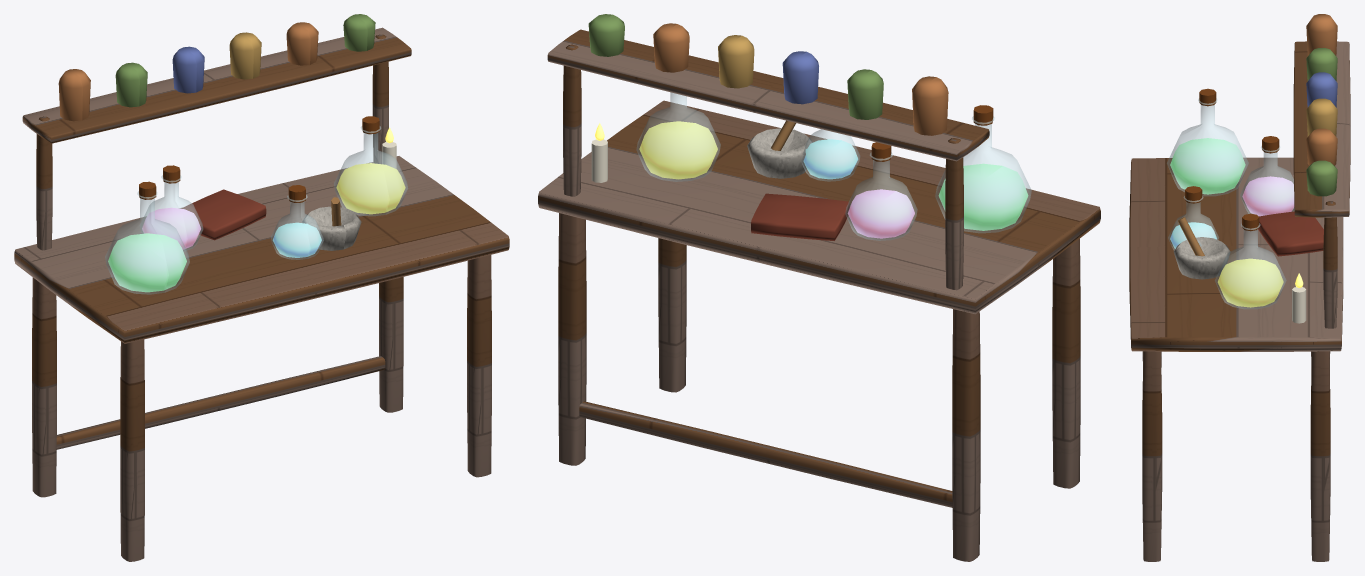
File: station_alchemy.glb
The picture shows the model from 3 angles, left to right: view 1: azimuth 30°, elevation 25°; view 2: azimuth 150°, elevation 25°; view 3: azimuth 270°, elevation 25°; orthographic projection. The views are drawn at different scales.
Visible parts, largest first — view 1: station_alchemy_wood_dark, station_alchemy; view 2: station_alchemy_wood_dark, station_alchemy; view 3: station_alchemy_wood_dark, station_alchemy.
Part boxes in pixels (box(x1,y1,x2,y2)): station_alchemy_wood_dark: box(14, 27, 509, 561); station_alchemy: box(58, 14, 407, 294); station_alchemy_wood_dark: box(538, 29, 1100, 561); station_alchemy: box(588, 14, 1031, 240); station_alchemy_wood_dark: box(1129, 41, 1350, 561); station_alchemy: box(1167, 14, 1337, 323).
Size of the model in its own units: 1.5 by 1.52 by 0.775.
Materials: 12 (3 with a texture image).
